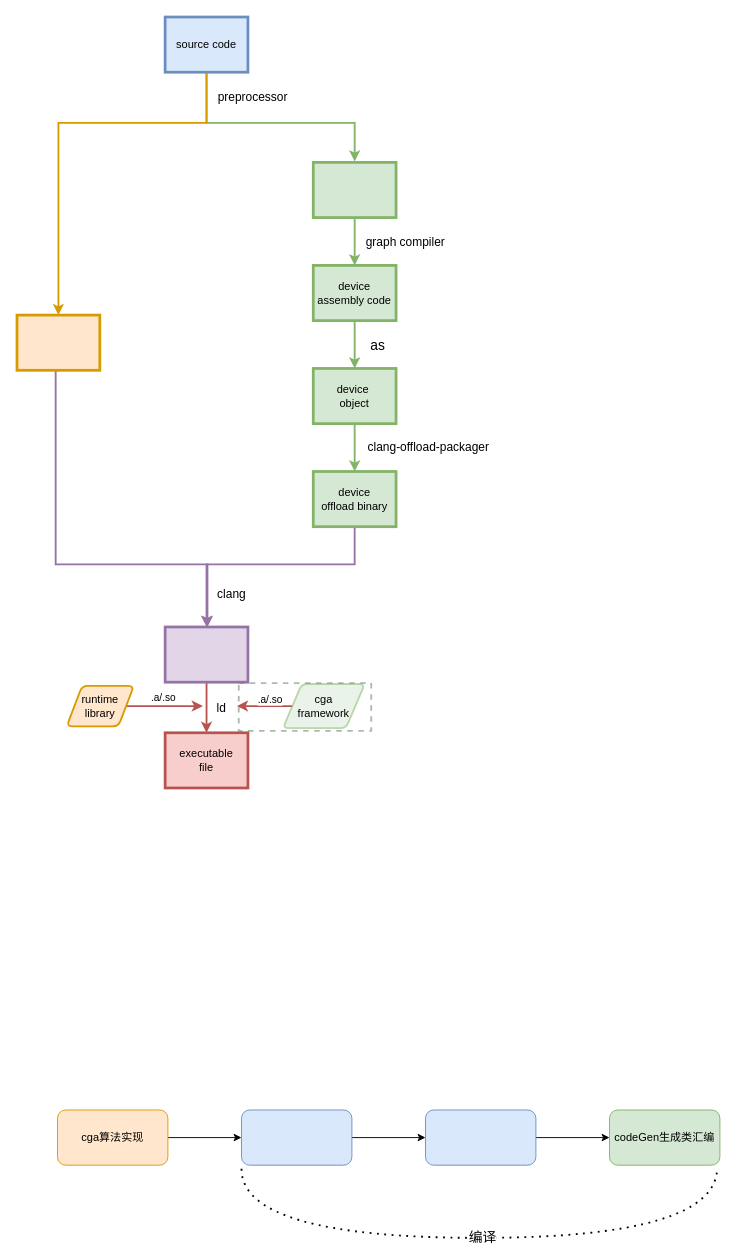
Image size: 736x1260. Some labels were removed from this diagram. The centre of each missing label's shape, as x and y in pixels:
"device source code" belongs at point (354, 189).
"fatbinary" belongs at point (206, 654).
"graph IR 转 hardware IR" belongs at point (480, 1137).
"host source code" belongs at point (58, 342).
"source code 转 graph IR" belongs at point (296, 1137).
